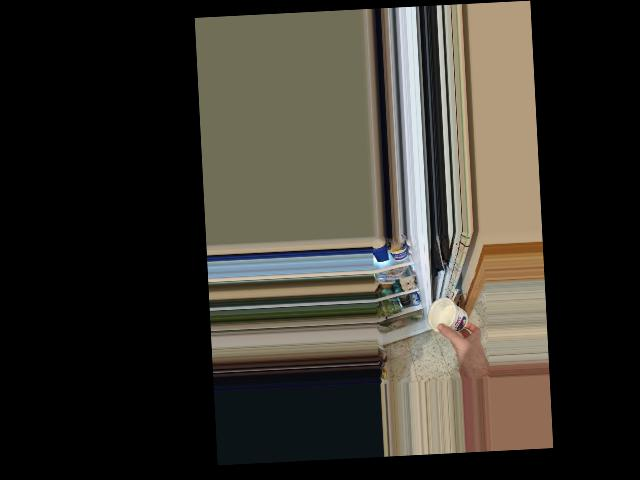cotage: (426, 295, 470, 336)
